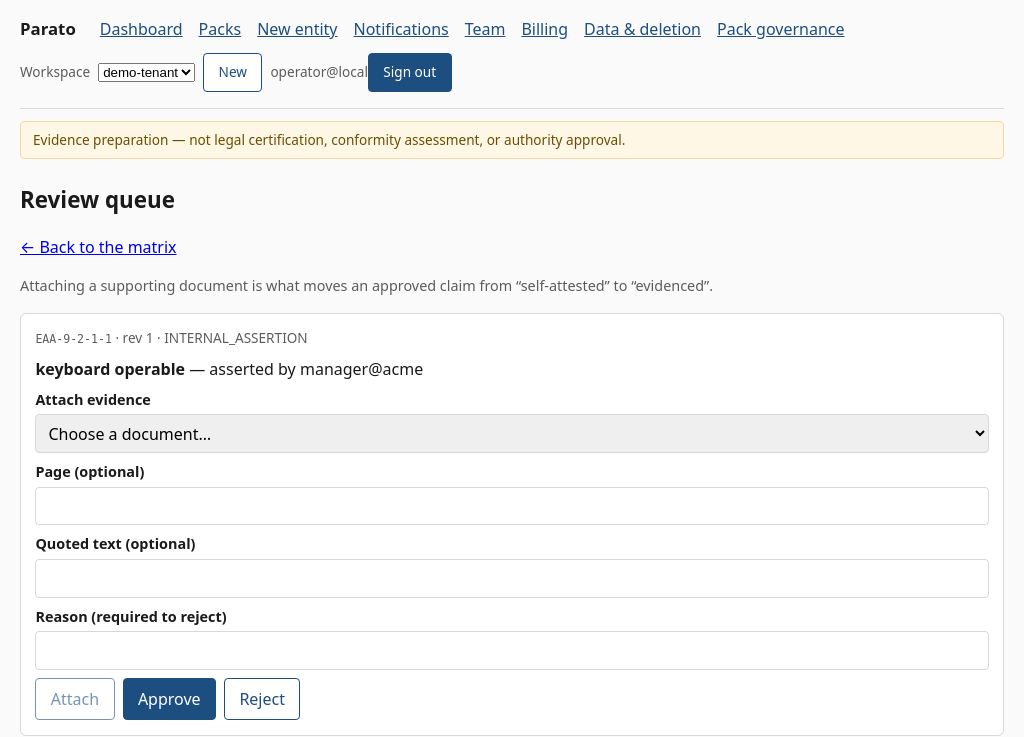
Test: ReviewQueuePage › attaches an available document to a claim as evidence
Expected: the text "EAA-9-2-1-1" is shown, [35, 332, 112, 346]
Select "audit.pdf" in the dropdown labelled "Attach evidence" at x=512, y=434, box [35, 414, 989, 453]
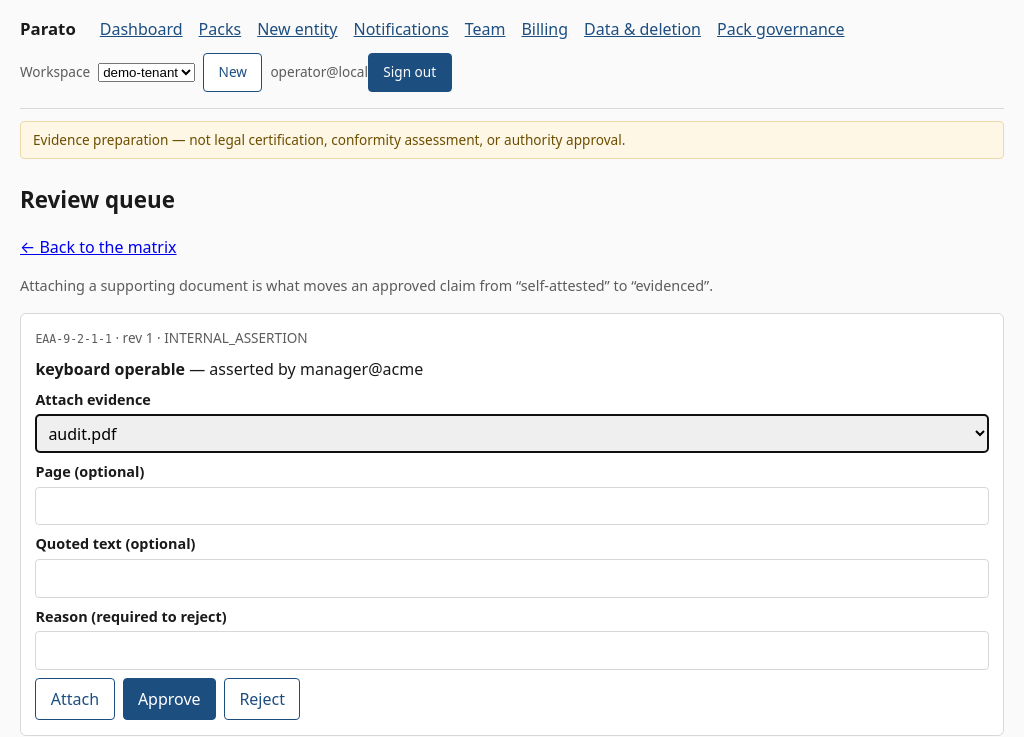
Type "keyboard operable" into the field labelled "Quoted text (optional)".
click(512, 578); type("keyboard operable")  # box [35, 559, 989, 598]
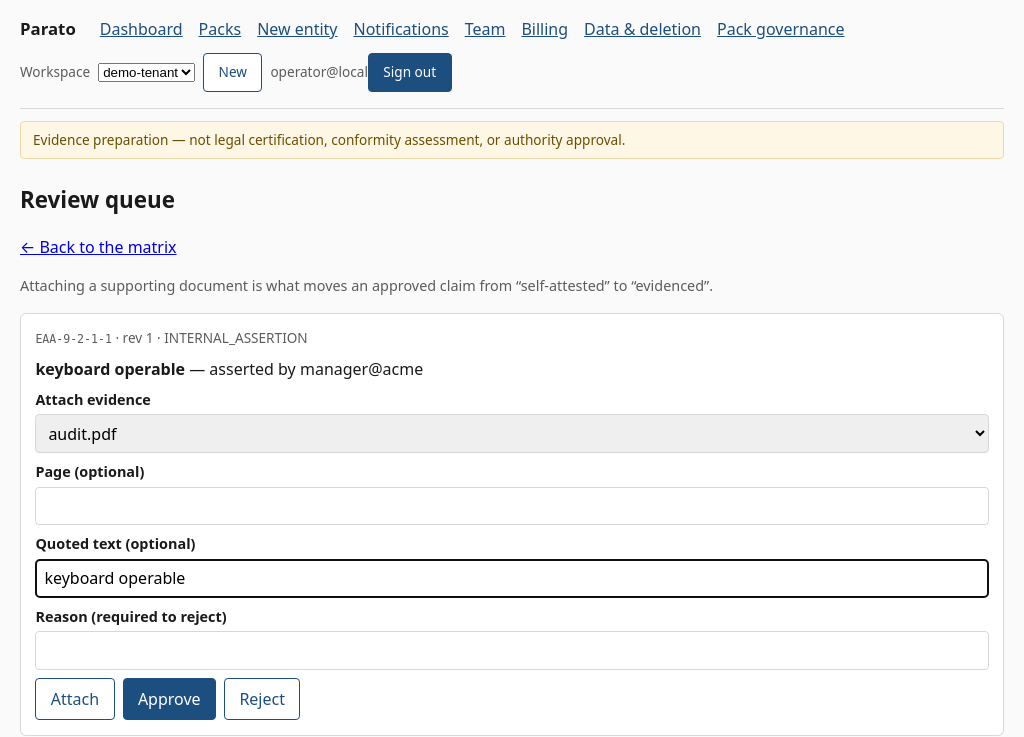
Click the button "Attach".
click(75, 699)  # box [35, 678, 114, 720]
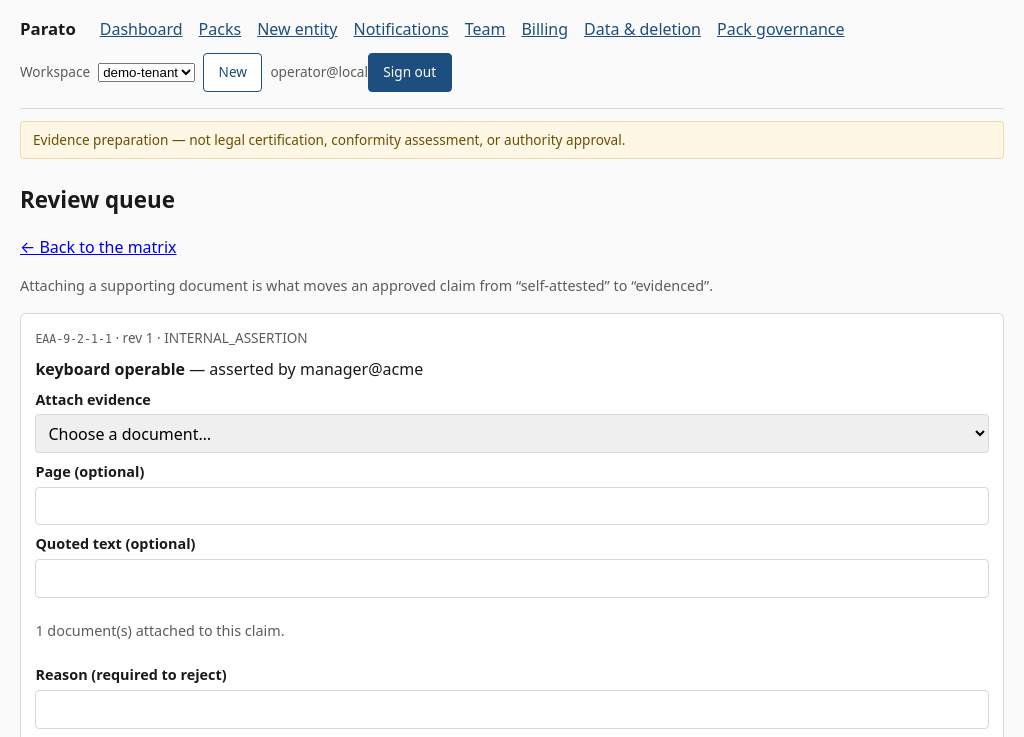
Expected: the text "1 document(s) attached to this claim." is shown, [35, 621, 284, 640]
